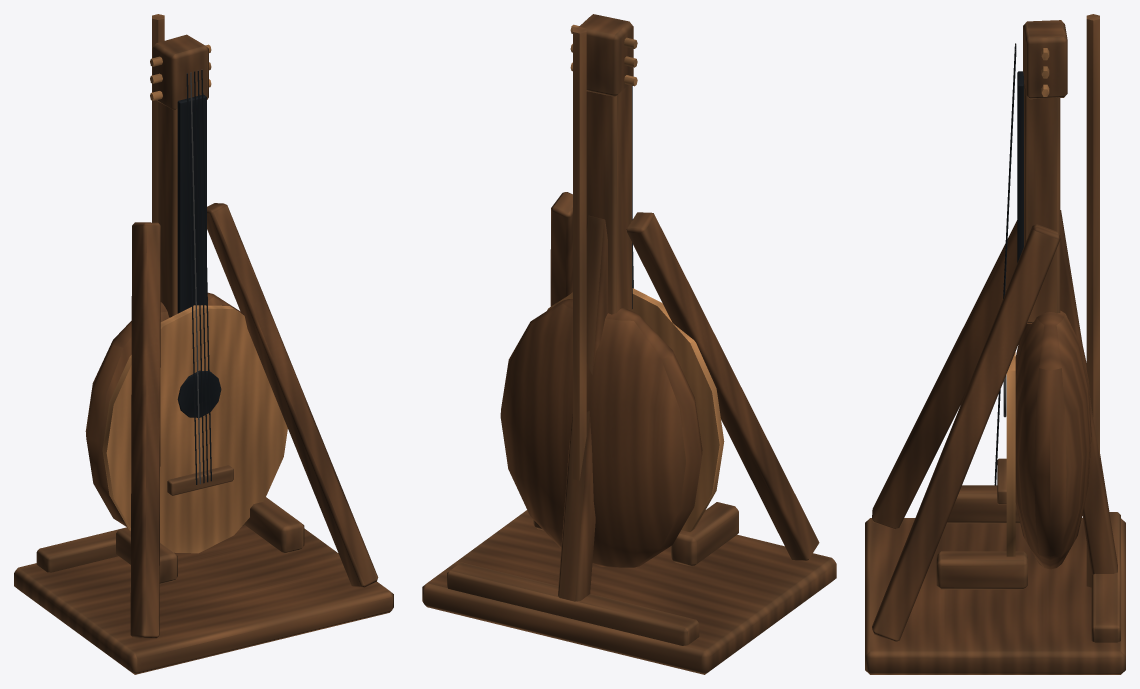
Rendered from Furn_Music_LuteStand.fbx.
3 views of the same model, side by side, from view 1: azimuth 30°, elevation 25°; view 2: azimuth 150°, elevation 25°; view 3: azimuth 270°, elevation 25° (orthographic). The views are drawn at different scales.
Parts seen in each view (by area): view 1: Furn_Music_LuteStand; view 2: Furn_Music_LuteStand; view 3: Furn_Music_LuteStand.
Boxes of the visible parts, <box> form: Furn_Music_LuteStand: <box>14,14,393,674</box>; Furn_Music_LuteStand: <box>422,14,836,674</box>; Furn_Music_LuteStand: <box>865,14,1125,674</box>.
Bounding box in the file's own units: 0.5 × 1 × 0.4.
Materials: 3 (3 with a texture image).
